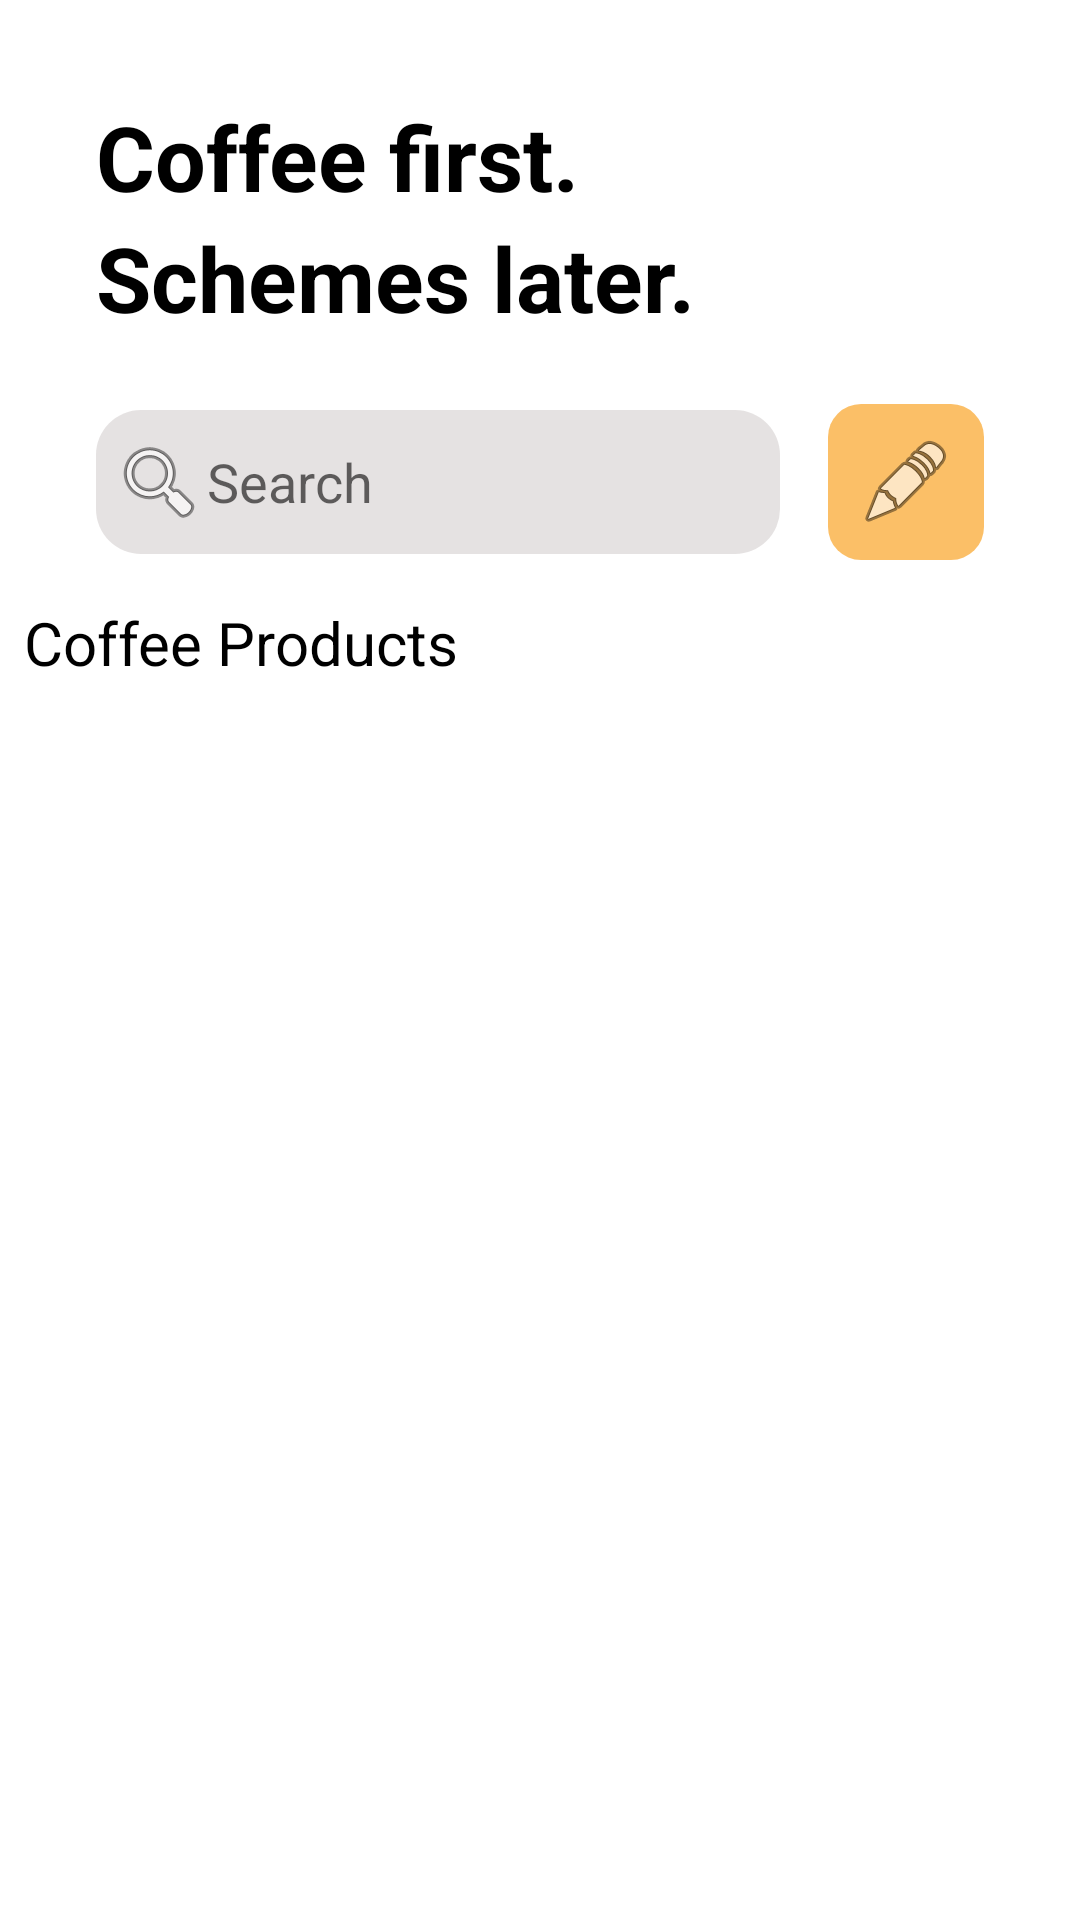

Icons on this 1080×1920 Android screen, each with its box as [x1, y1, x2, y2]:
edit: [865, 441, 946, 522]
